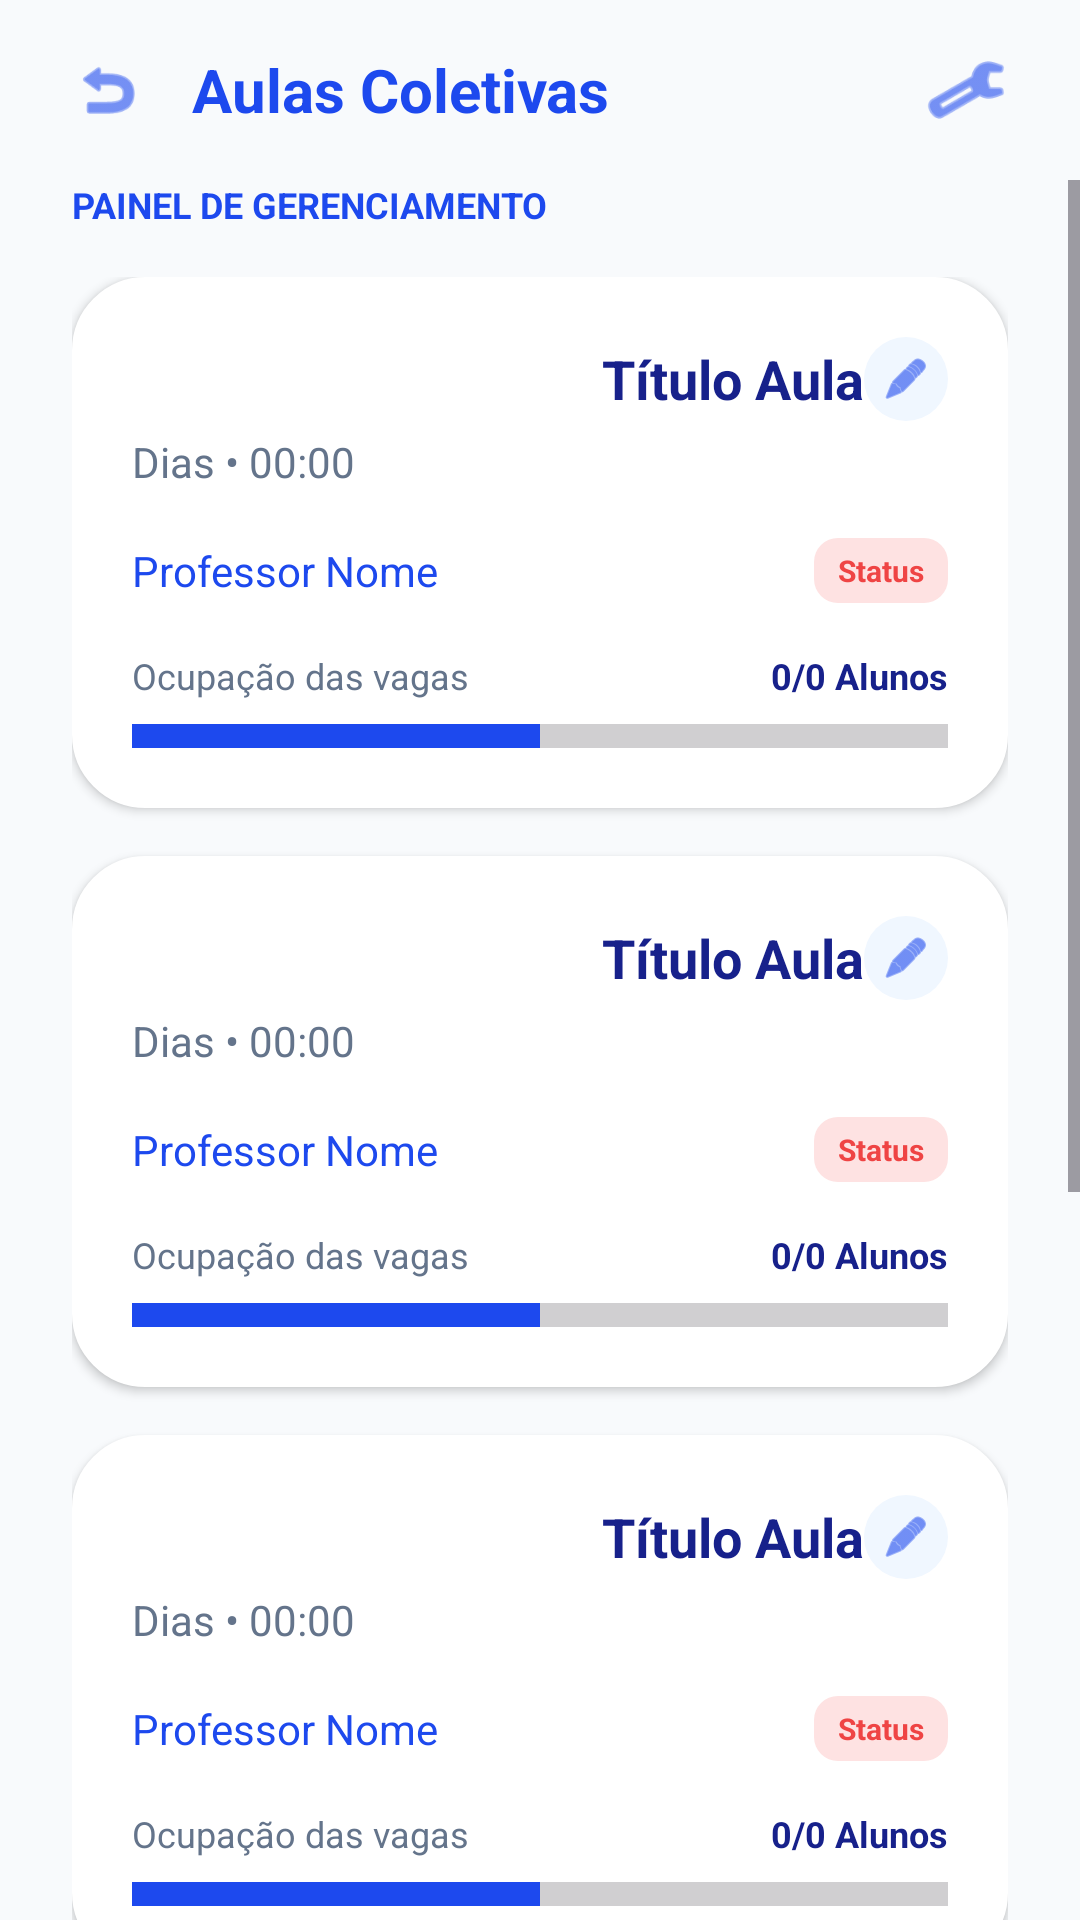

Named icons in this screenshot (1080px x 1920px) and their centers, (x=x, y=y):
edit: (x=906, y=379), (x=906, y=958), (x=906, y=1537)
preferences: (x=966, y=90)
revert: (x=109, y=90)
